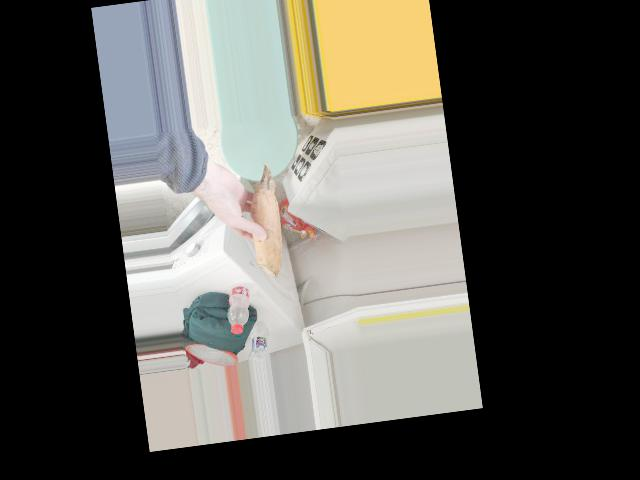sweet_potato: (236, 161, 288, 272)
